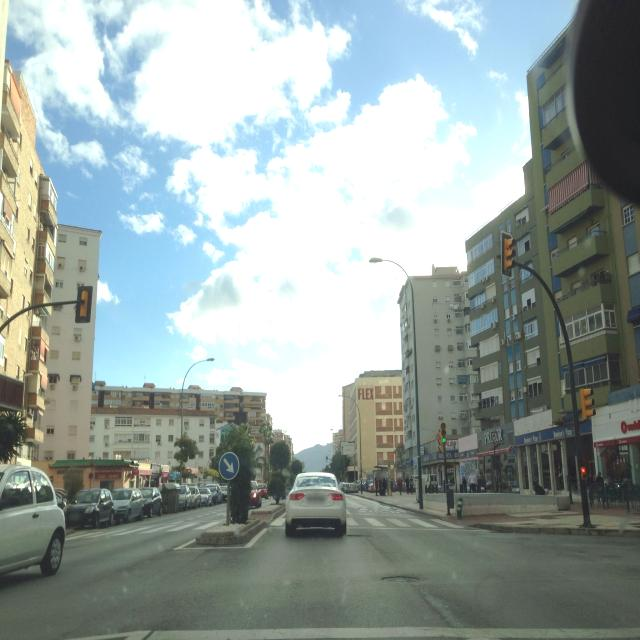car: (0, 460, 67, 600), (285, 472, 347, 537), (64, 487, 116, 530), (109, 487, 145, 523), (138, 486, 164, 518), (53, 488, 69, 516), (199, 484, 219, 505), (203, 483, 222, 504), (248, 480, 262, 508), (186, 484, 202, 508), (199, 487, 213, 506), (257, 483, 269, 499), (219, 484, 229, 502), (347, 481, 359, 494)
